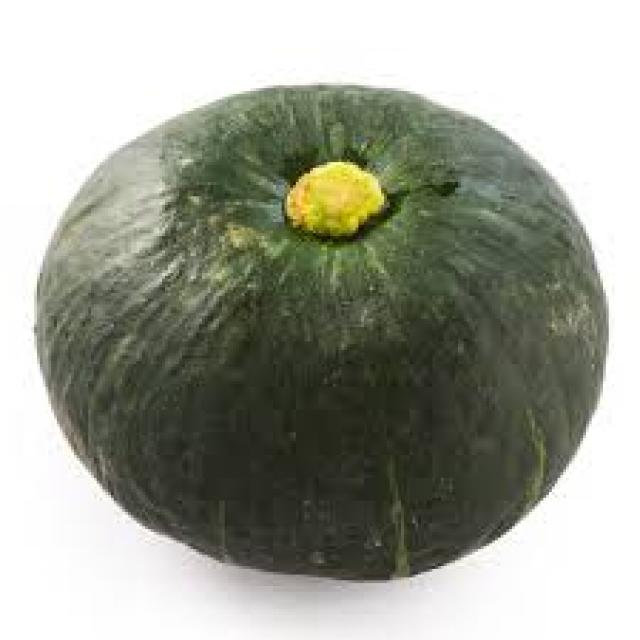organic waste: (34, 80, 606, 580)
